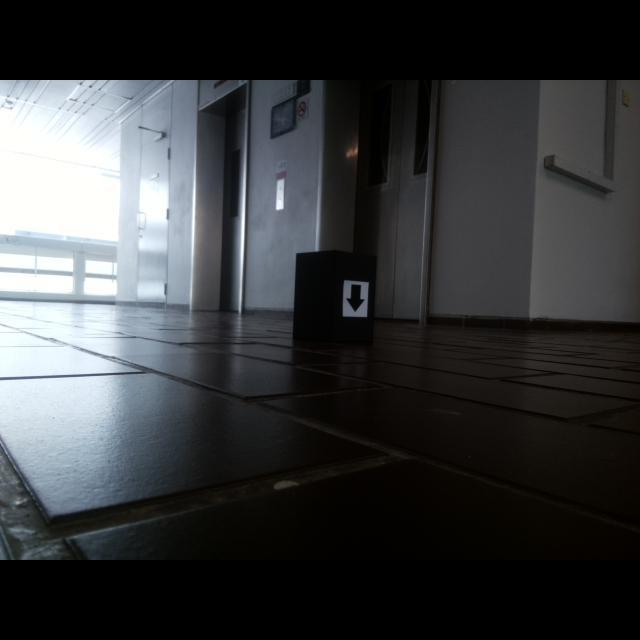DOWN: (345, 284, 365, 314)
